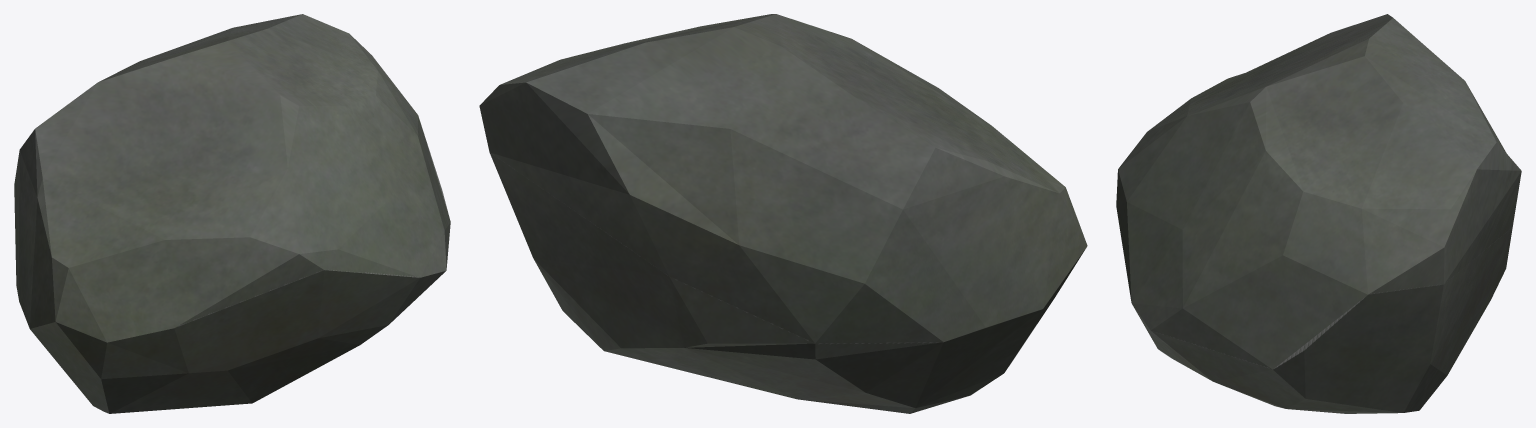
File: Rock_Round_03.FBX
The picture shows the model from 3 angles, left to right: view 1: azimuth 30°, elevation 25°; view 2: azimuth 150°, elevation 25°; view 3: azimuth 270°, elevation 25°; orthographic projection. The views are drawn at different scales.
Parts seen in each view (by area): view 1: Rock_Round_03; view 2: Rock_Round_03; view 3: Rock_Round_03.
Boxes of the visible parts, x1,y1,x2,y2 form: Rock_Round_03: (14, 14, 450, 413); Rock_Round_03: (479, 14, 1087, 413); Rock_Round_03: (1116, 14, 1521, 413).
Bounding box in the file's own units: 108 × 79.81 × 73.25.
